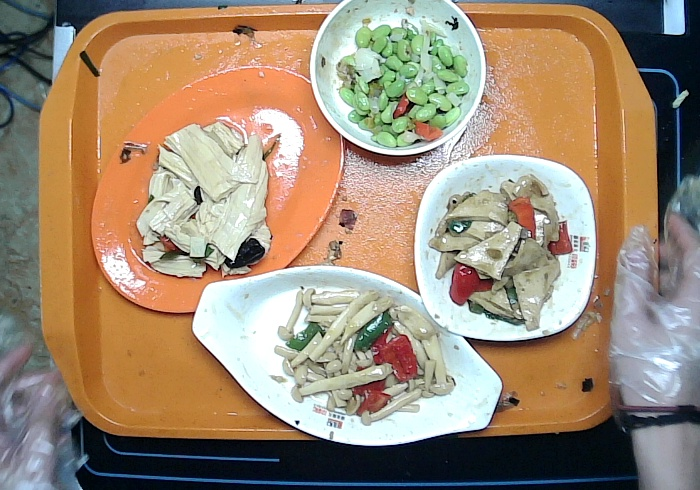NLDX-Bai_Se_Xiao_Fang_Die: (413, 155, 597, 340)
NLDX-Fan_Wan: (310, 1, 487, 155)
NLDX-Ju_Se_Pan: (89, 67, 345, 313)
NLDX-Yu_Pan: (190, 265, 503, 447)
